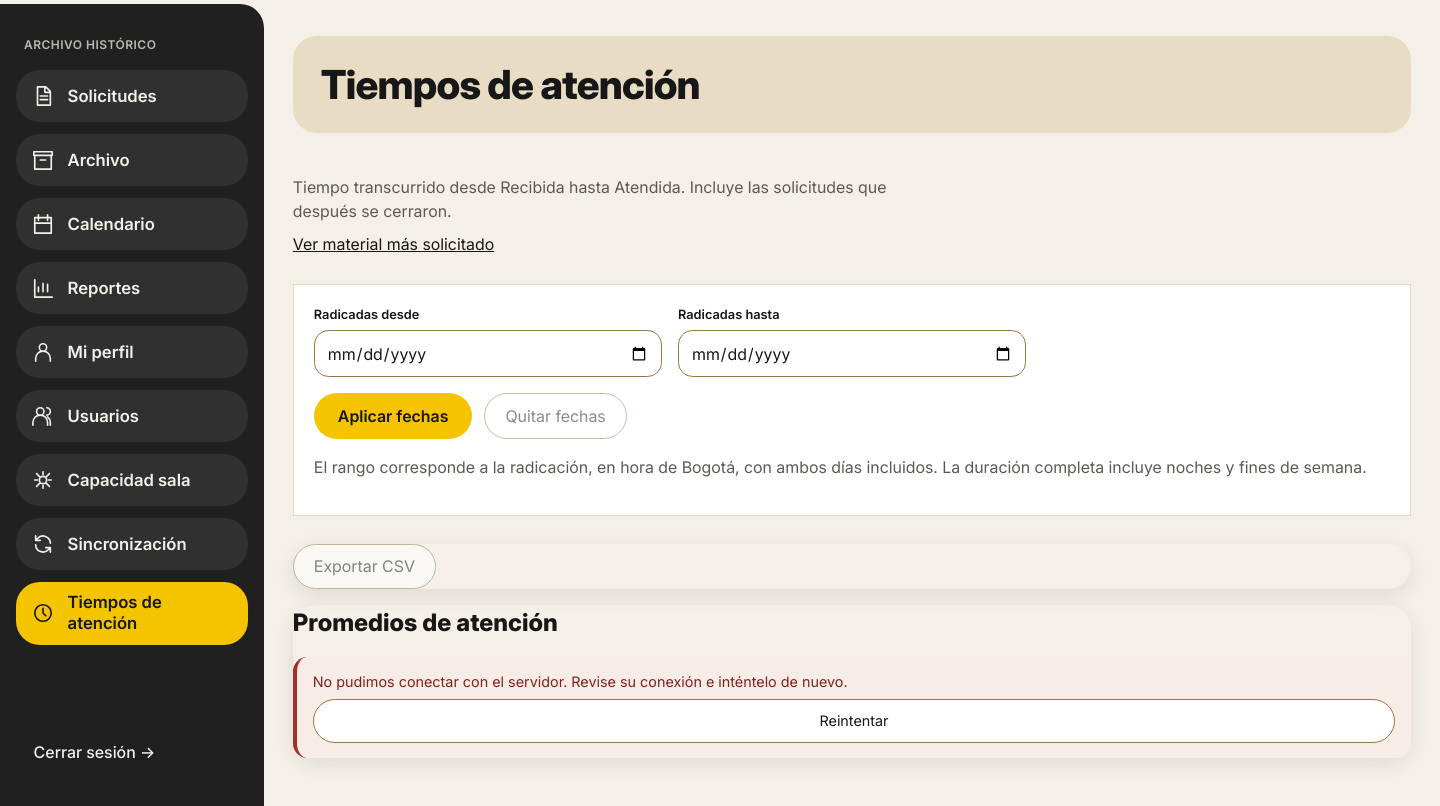
it: AttentionTimesPage › shows an empty sample and allows recovering after a network error
This screenshot has width=1440, height=806.
(page scrolled)
Expected: the message shows "No pudimos conectar", 313,673 -> 848,690
Click the button "Reintentar" at coordinates (854, 721), box 313,699 -> 1395,743
(page scrolled)
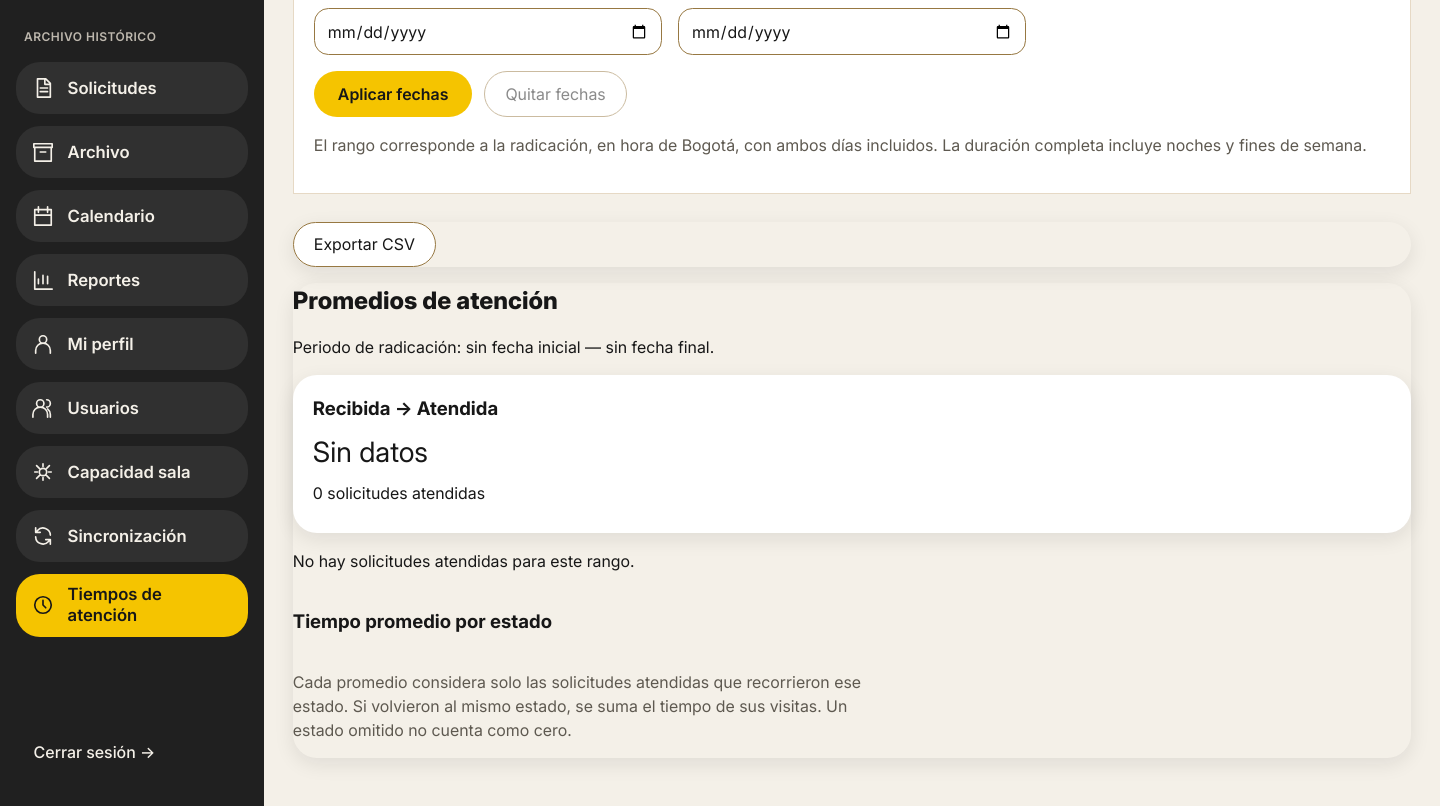
Now the text "No hay solicitudes atendidas para este rango." is shown, box 293,551 -> 635,571
